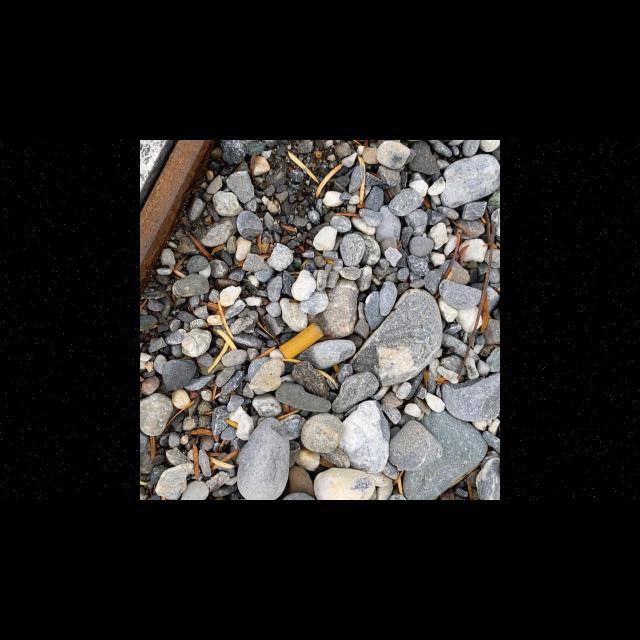cigarette: (278, 322, 325, 360)
